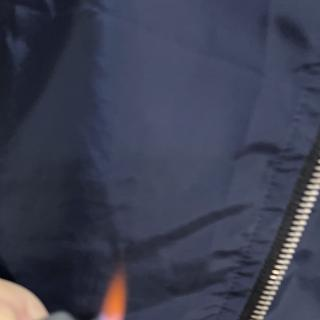fire: (94, 270, 131, 320)
